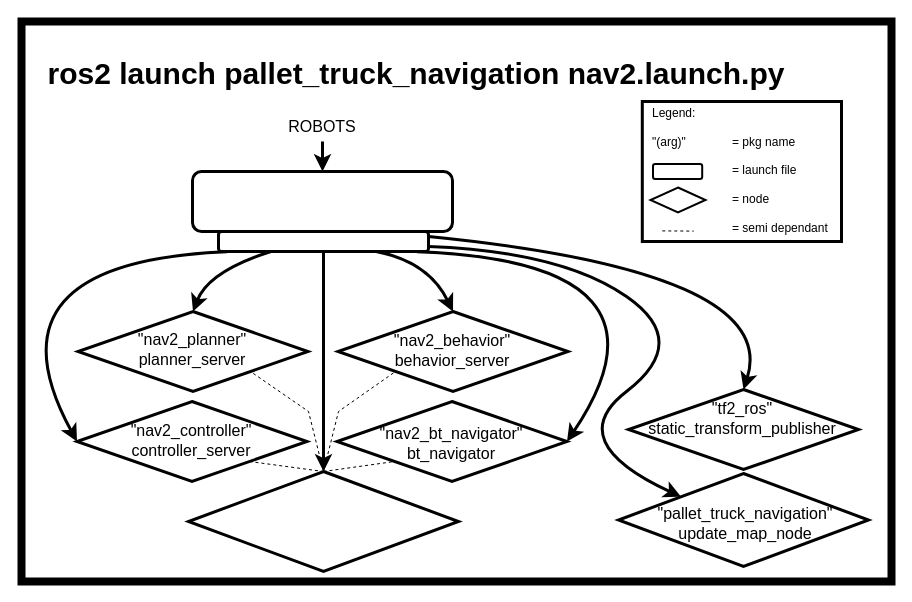
Some shapes in this 912 by 602 pixel diagram are drawn without their labels. Here are the shapes that lost their labels. From the top down, the box of each, then its label:
(190, 170, 454, 232): "pallet_truck_navigation" nav2.launch.py
(216, 230, 430, 252): for each robot
(186, 470, 460, 572): "nav3_lifecycle_manager" lifecycle_manager
